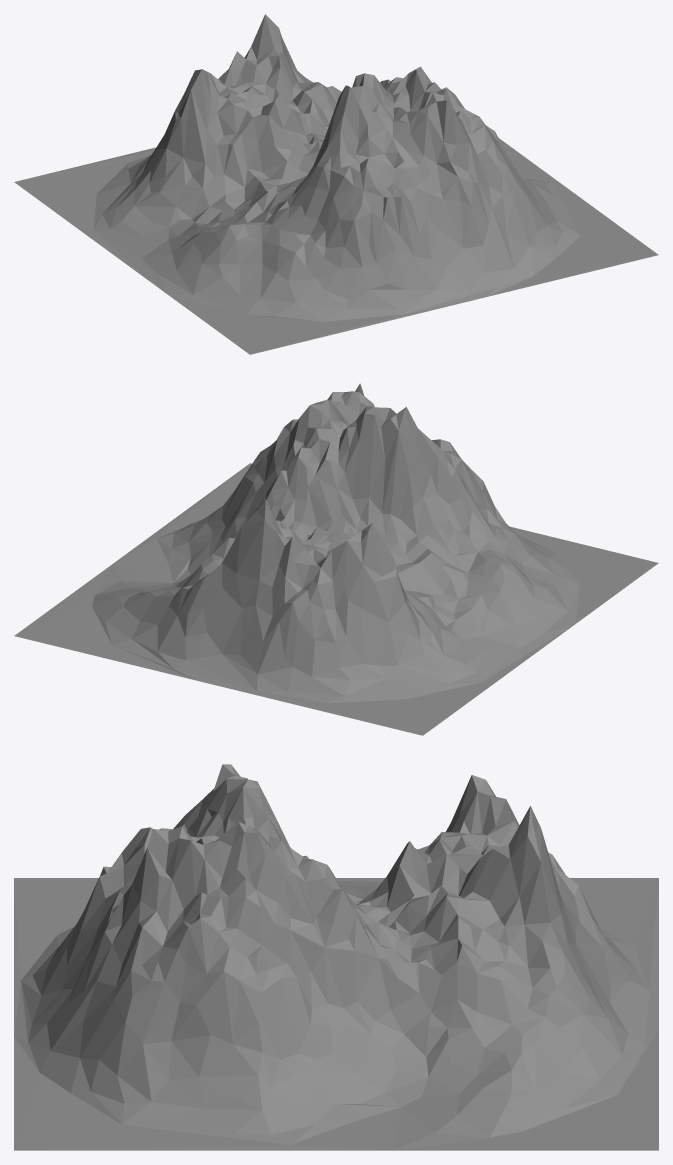
Rendered from testhill.fbx.
3 views of the same model, one above another, from view 1: azimuth 30°, elevation 25°; view 2: azimuth 150°, elevation 25°; view 3: azimuth 270°, elevation 25° (orthographic). The views are drawn at different scales.
Parts seen in each view (by area): view 1: Landscape.001; view 2: Landscape.001; view 3: Landscape.001.
Boxes of the visible parts, left/top/right/bottom form: Landscape.001: left=14, top=14, right=658, bottom=354; Landscape.001: left=14, top=383, right=658, bottom=735; Landscape.001: left=14, top=764, right=658, bottom=1150.
Size of the model in its own units: 200 by 79.36 by 200.
1 material, 1 textured.
